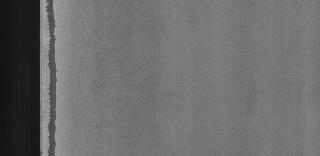oil spot: (44, 0, 72, 156)
